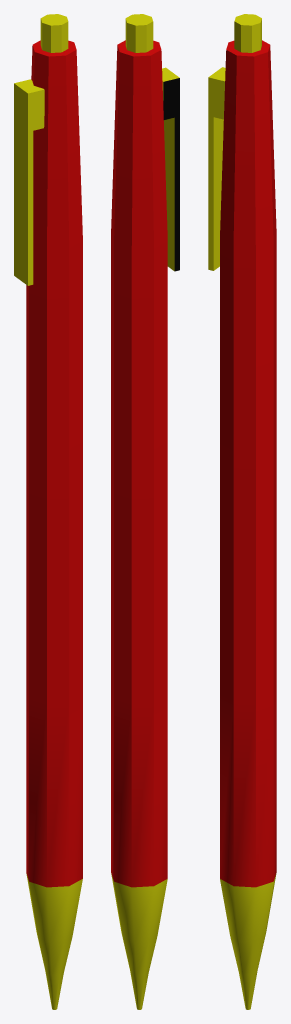
File: Pen.fbx
The picture shows the model from 3 angles, left to right: view 1: azimuth 30°, elevation 25°; view 2: azimuth 210°, elevation 25°; view 3: azimuth 330°, elevation 25°; orthographic projection.
Visible parts, largest first — view 1: Pen1; view 2: Pen1; view 3: Pen1.
Boxes of the visible parts, x1,y1,x2,y2 form: Pen1: (14,14,82,1009); Pen1: (111,14,179,1009); Pen1: (208,14,276,1009).
Bounding box in the file's own units: 0.0815 × 1.31 × 0.0707.
